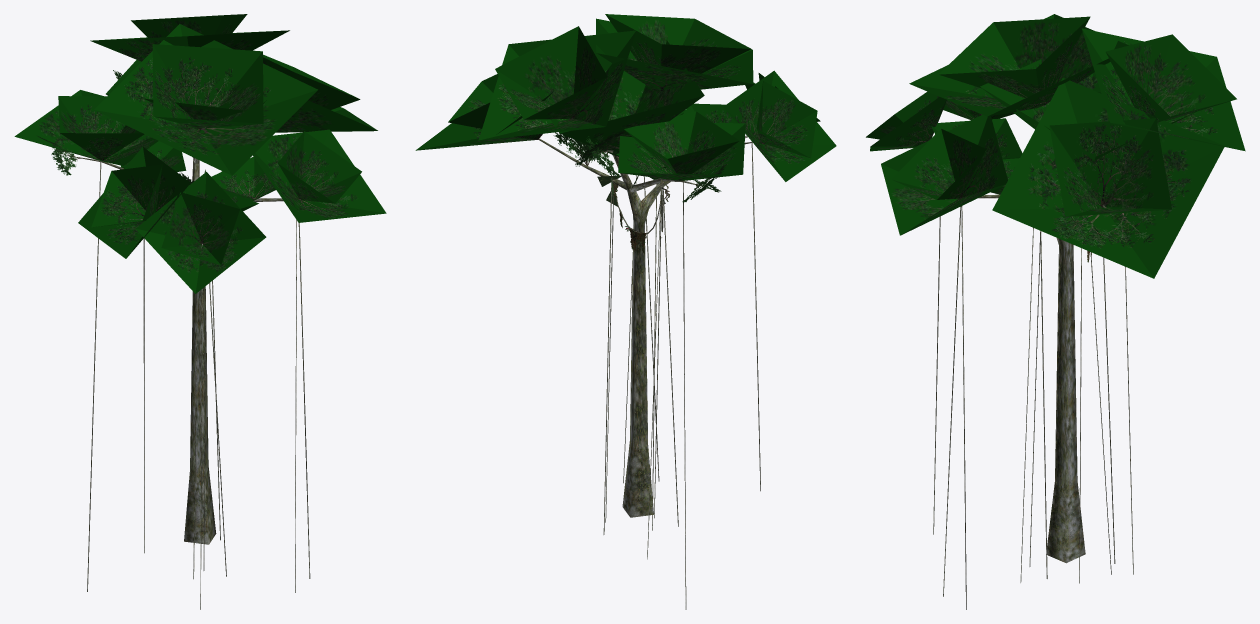
File: decd_treecanopy_l1.fbx
3 renders of one model, left to right at view 1: azimuth 30°, elevation 25°; view 2: azimuth 150°, elevation 25°; view 3: azimuth 270°, elevation 25°, orthographic. The views are drawn at different scales.
Visible parts, largest first — view 1: mesh_node; view 2: mesh_node; view 3: mesh_node.
Part boxes in pixels (x1,y1,x2,y2): mesh_node: (14, 14, 386, 609); mesh_node: (415, 14, 836, 609); mesh_node: (866, 14, 1245, 609).
Size of the model in its own units: 21.28 by 34.02 by 20.
